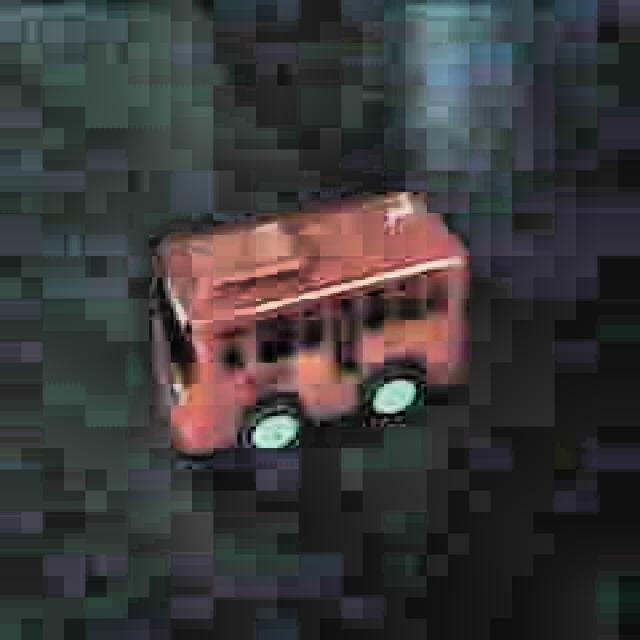bus: (135, 177, 477, 474)
